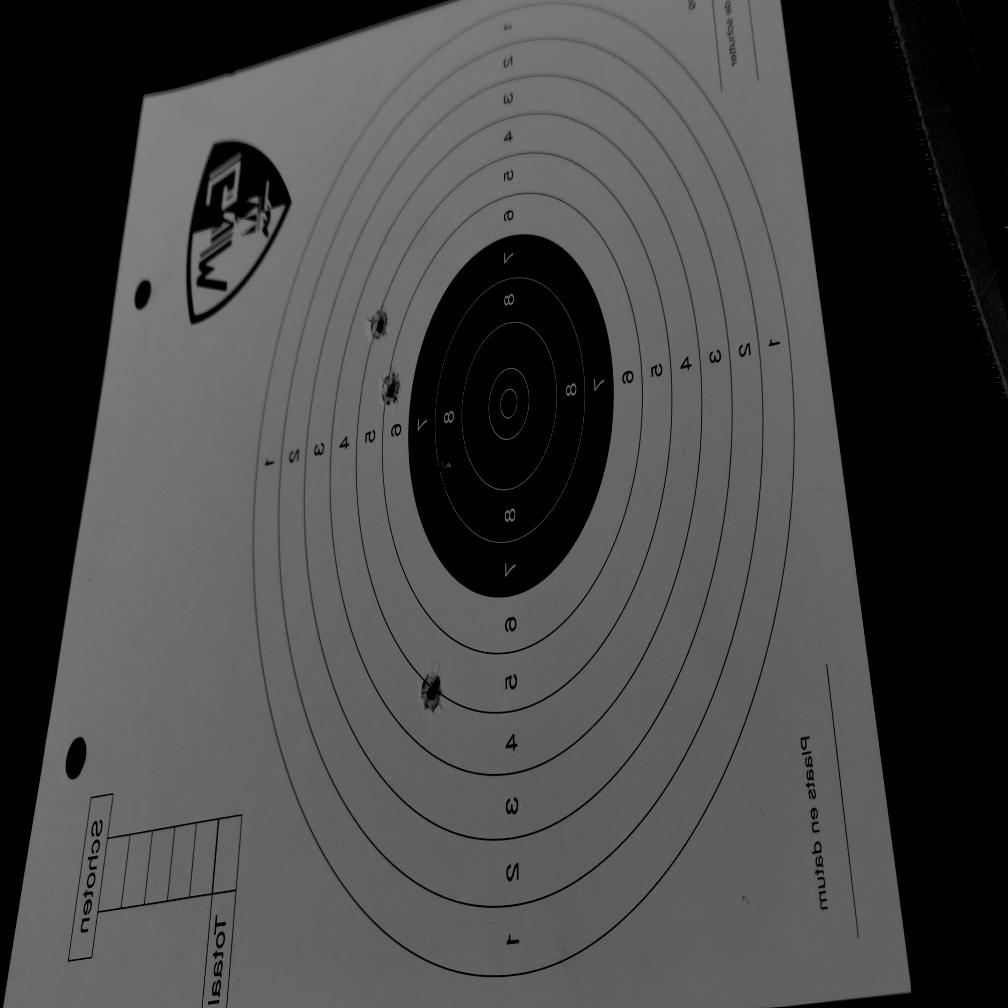5: (418, 662, 444, 718), (367, 304, 392, 341)
6: (379, 365, 403, 411)
8: (435, 446, 456, 490)
Target: (251, 0, 796, 981)
black_contour: (407, 234, 615, 598)
